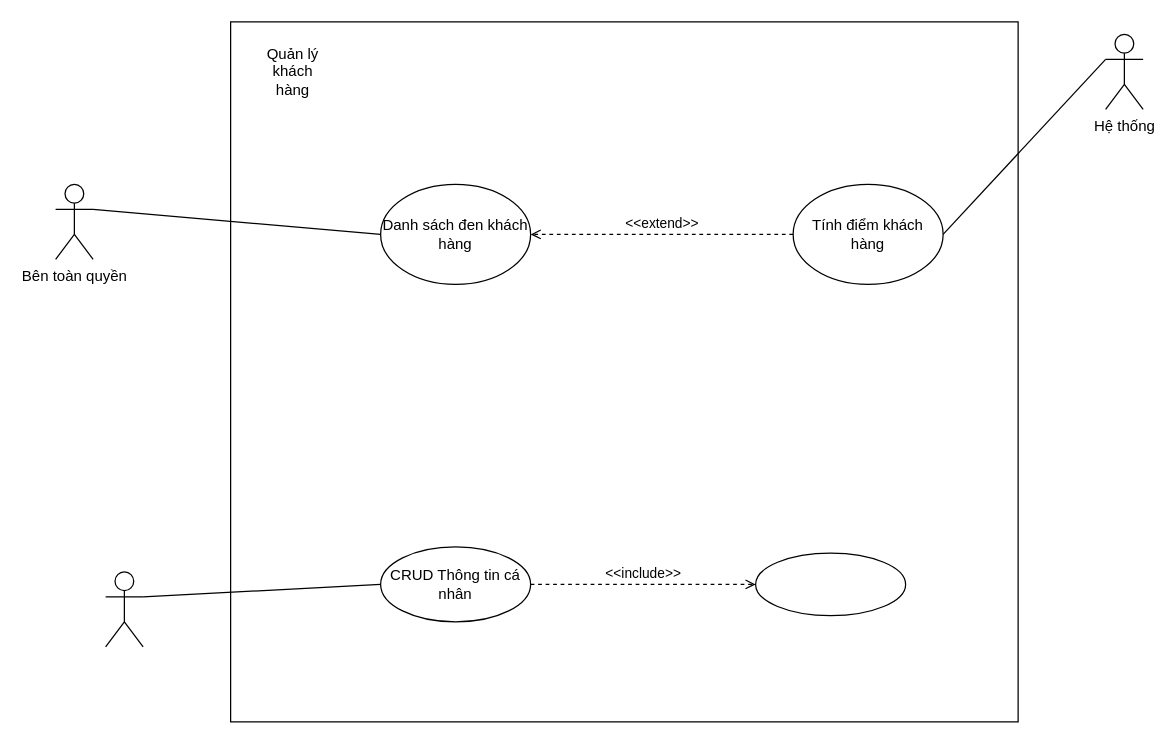
This 1176x744 diagram has some shape labels left out. The centre of each missing label's shape, as x and y in pixels:
"Khách hàng" goes at pixel 123 609.
"KIểm tra định dạng thông tin" goes at pixel 830 584.
